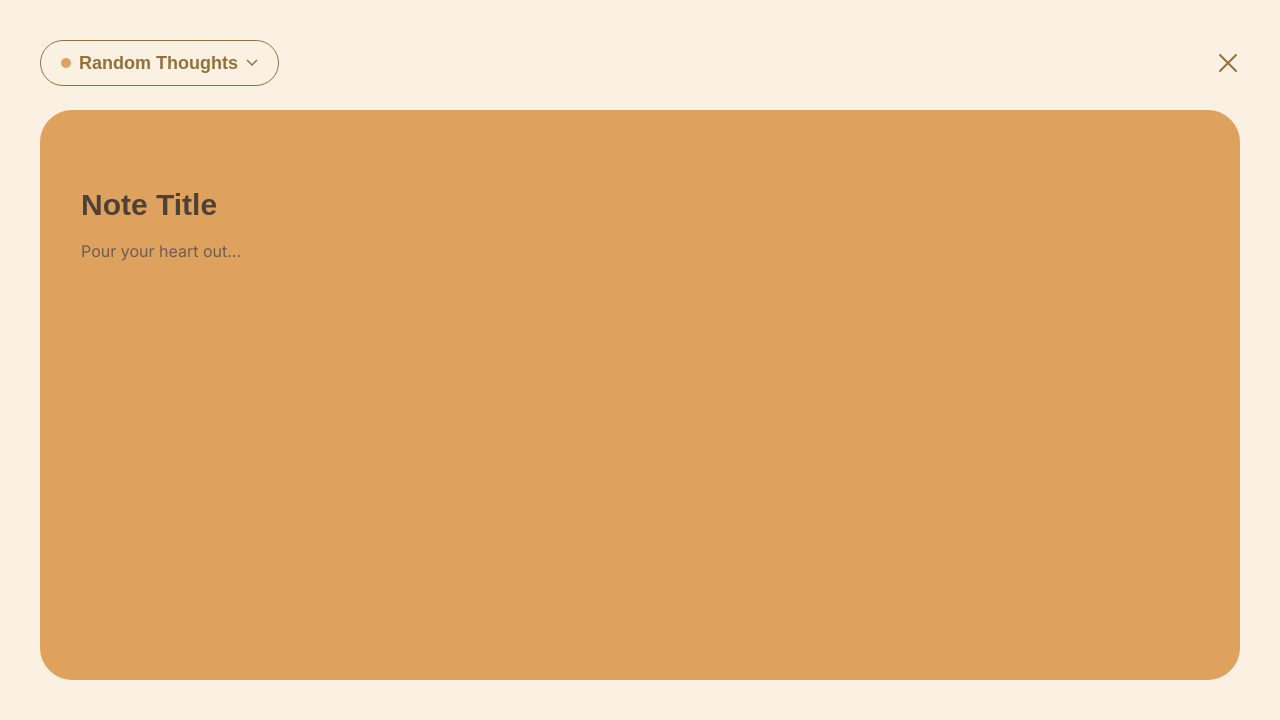
Test: NoteEditor › creates the note after the user stops typing, then shows the last-edited timestamp
In the field with test id "note-title-input": [640, 205] box [81,187,1199,223], type "Grocery list"
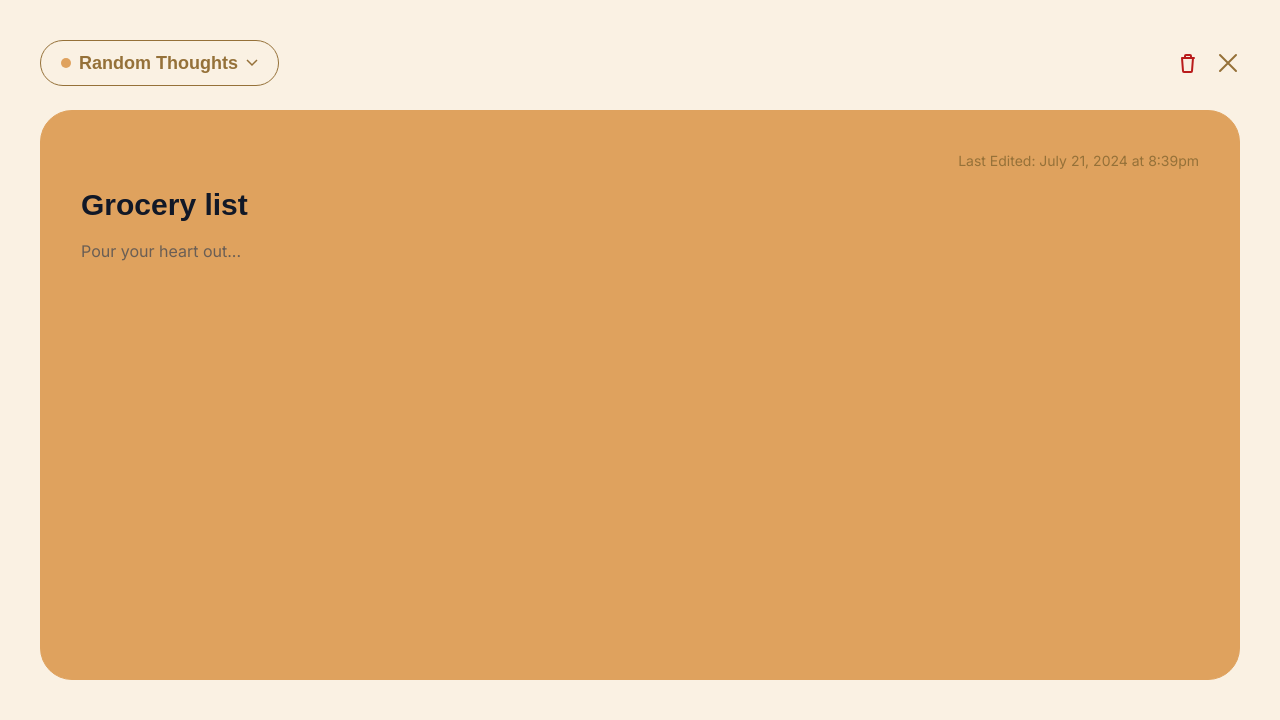
Check: the text with test id "note-last-edited" reads "Last Edited: July 21, 2024 at 8:39pm", box [958,152,1199,169]
